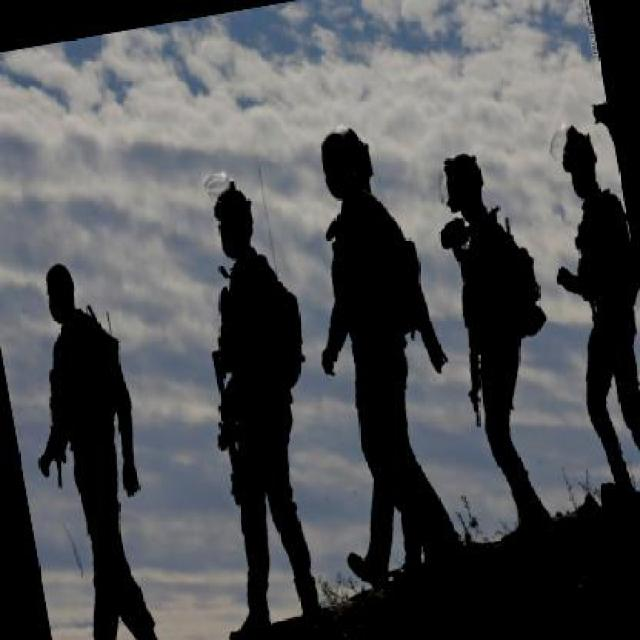MIL_Pax: (164, 172, 353, 632), (300, 112, 482, 578), (0, 250, 180, 638), (423, 139, 579, 539), (531, 115, 638, 511)
